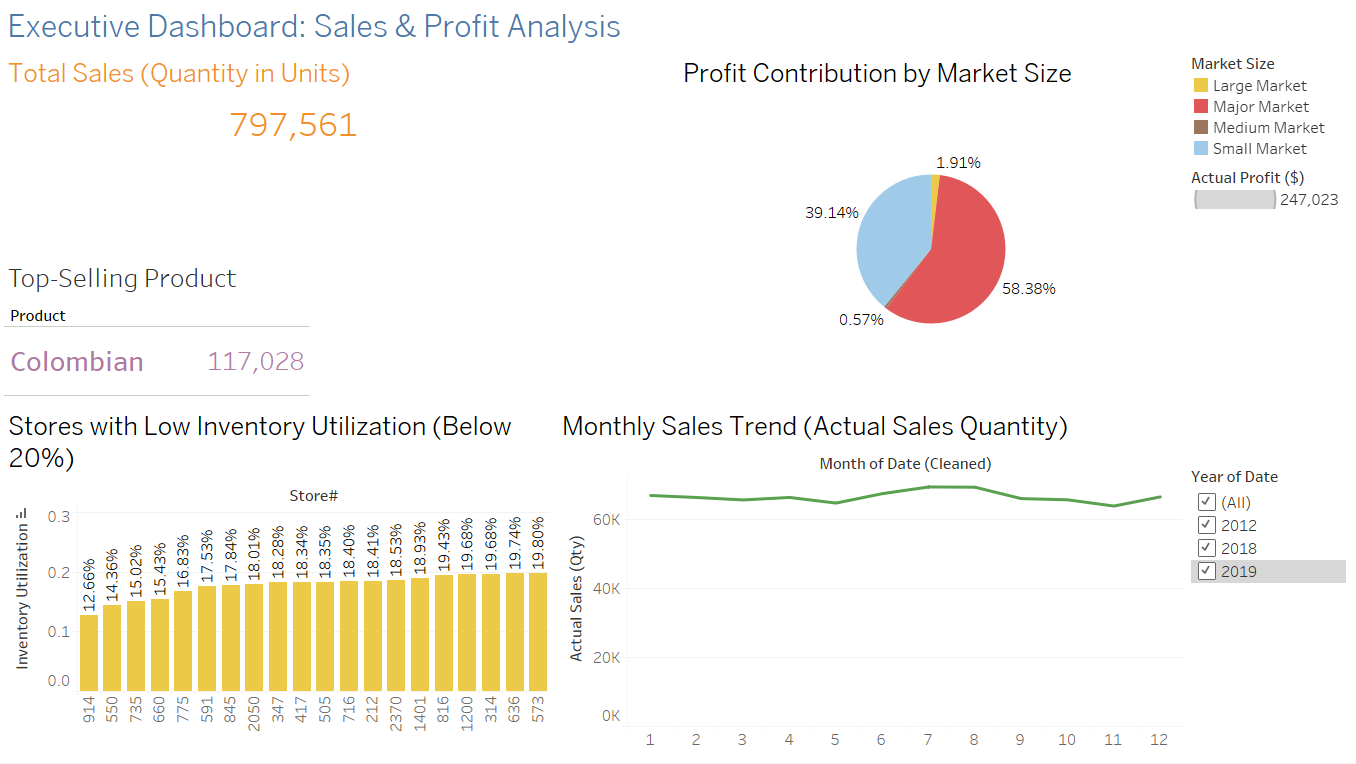

What the dashboard file says about the page in this screenshot:
{"tool":"tableau","page":{"name":"Business Performance Dashboard - Key Insights","canvas":[1366,768],"ordinal":0},"visuals":[{"type":"title","box":[8,8,1350,46]},{"type":"worksheet","title":"TotalSales(Qty)","mark":"Automatic","box":[8,54,675,202.6]},{"type":"worksheet","title":"ProfitContribution","mark":"Pie","box":[683,54,512,353]},{"type":"legend","title":"ProfitContribution","param":"[federated.12dfmvq03fb5ga1dwiptj0zr7xqx].[none:Market Size:nk]","box":[1195,54,163,114]},{"type":"legend","title":"ProfitContribution","param":"[federated.12dfmvq03fb5ga1dwiptj0zr7xqx].[sum:Actual Profit ($):qk]","box":[1195,168,163,299]},{"type":"worksheet","title":"Top-Selling Product","mark":"Automatic","rows":["Product"],"box":[8,256.6,675,150.4]},{"type":"worksheet","title":"LowInventoryUtilizationStores","mark":"Automatic","rows":["Calculation_1580763492399509506"],"cols":["Store#"],"box":[8,407,554,353]},{"type":"worksheet","title":"SalesTrend","mark":"Line","rows":["Actual Sales (Qty)"],"cols":["Calculation_1580763492410572803"],"box":[562,407,633,353]},{"type":"filter","title":"SalesTrend","param":"[federated.12dfmvq03fb5ga1dwiptj0zr7xqx].[yr:Date:ok]","box":[1195,467,163,128]}]}

Visuals, with their boxes in screenshot pixels (x1, y1, x2, y2), scaled from the page's 1366x768 canvas onto the 1356x764 screenshot:
title: pyautogui.locateOnScreen(8, 8, 1348, 54)
"TotalSales(Qty)" worksheet: pyautogui.locateOnScreen(8, 54, 678, 255)
"ProfitContribution" worksheet (Pie marks): pyautogui.locateOnScreen(678, 54, 1186, 405)
"ProfitContribution" legend: pyautogui.locateOnScreen(1186, 54, 1348, 167)
"ProfitContribution" legend: pyautogui.locateOnScreen(1186, 167, 1348, 465)
"Top-Selling Product" worksheet: pyautogui.locateOnScreen(8, 255, 678, 405)
"LowInventoryUtilizationStores" worksheet: pyautogui.locateOnScreen(8, 405, 558, 756)
"SalesTrend" worksheet (Line marks): pyautogui.locateOnScreen(558, 405, 1186, 756)
"SalesTrend" filter: pyautogui.locateOnScreen(1186, 465, 1348, 592)
